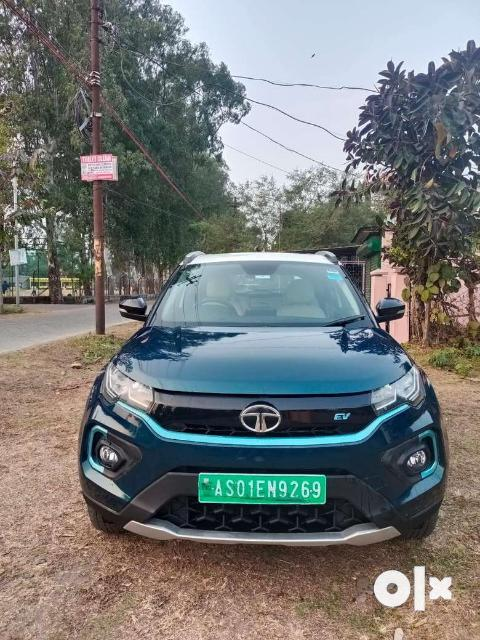Indian_Number_Plate: (201, 475, 327, 503)
